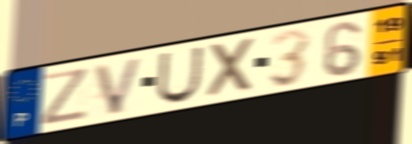3: (268, 27, 317, 89)
6: (321, 19, 364, 80)
U: (154, 45, 206, 106)
V: (92, 54, 146, 117)
X: (206, 35, 259, 101)
Z: (38, 65, 90, 128)
